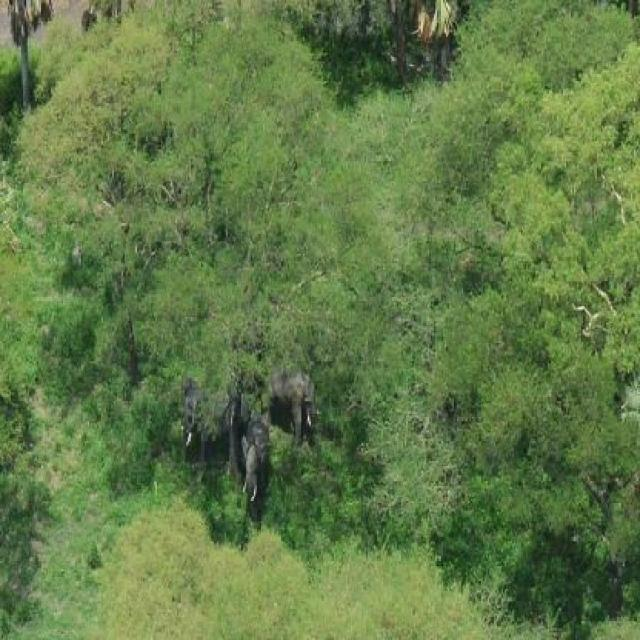elephant: (273, 356, 322, 441), (238, 388, 264, 538), (218, 383, 245, 463), (173, 382, 204, 449)
